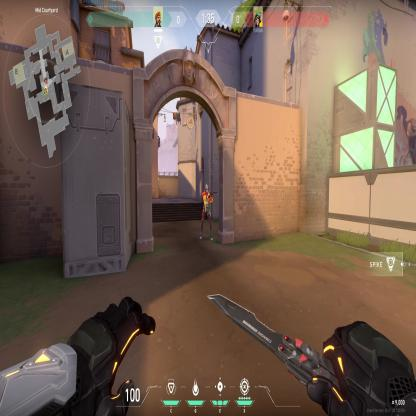enemy: (199, 183, 215, 242)
